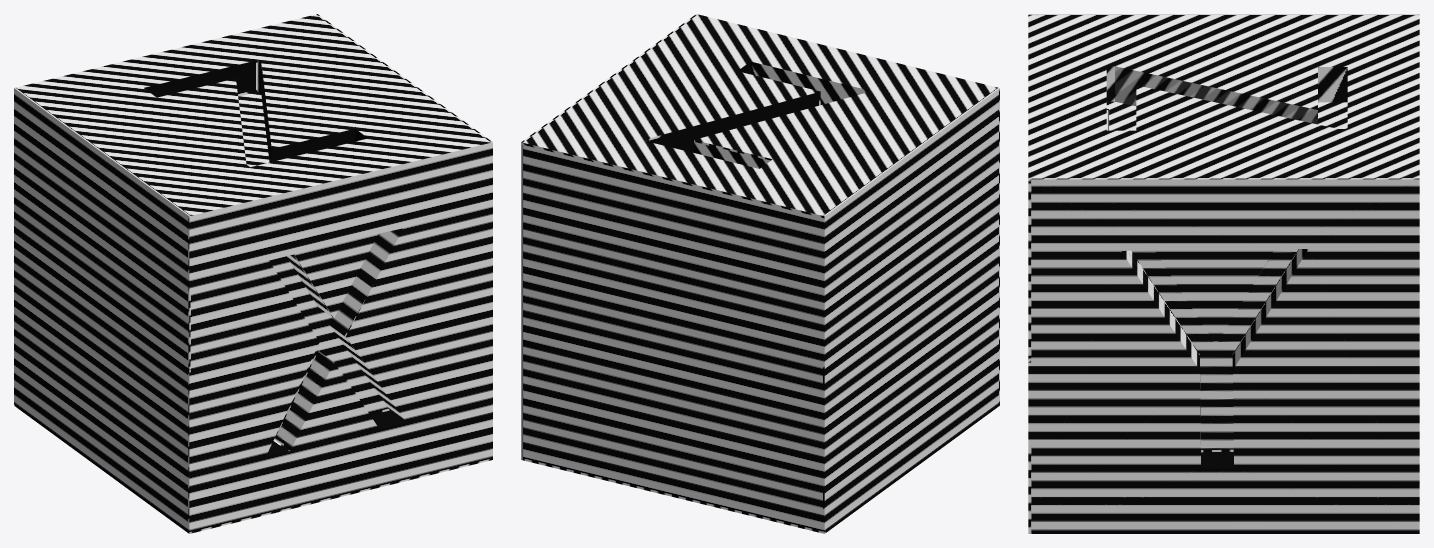
The model's file is CalCube.fbx.
3 views of the same model, side by side, from view 1: azimuth 30°, elevation 25°; view 2: azimuth 150°, elevation 25°; view 3: azimuth 270°, elevation 25° (orthographic). The views are drawn at different scales.
Parts seen in each view (by area): view 1: xyzCalibration cube; view 2: xyzCalibration cube; view 3: xyzCalibration cube.
Boxes of the visible parts, <box> form: xyzCalibration cube: <box>14,14,492,533</box>; xyzCalibration cube: <box>521,14,999,533</box>; xyzCalibration cube: <box>1028,14,1419,533</box>.
Bounding box in the file's own units: 2000 × 2000 × 2000.
Materials: 1 (1 with a texture image).
